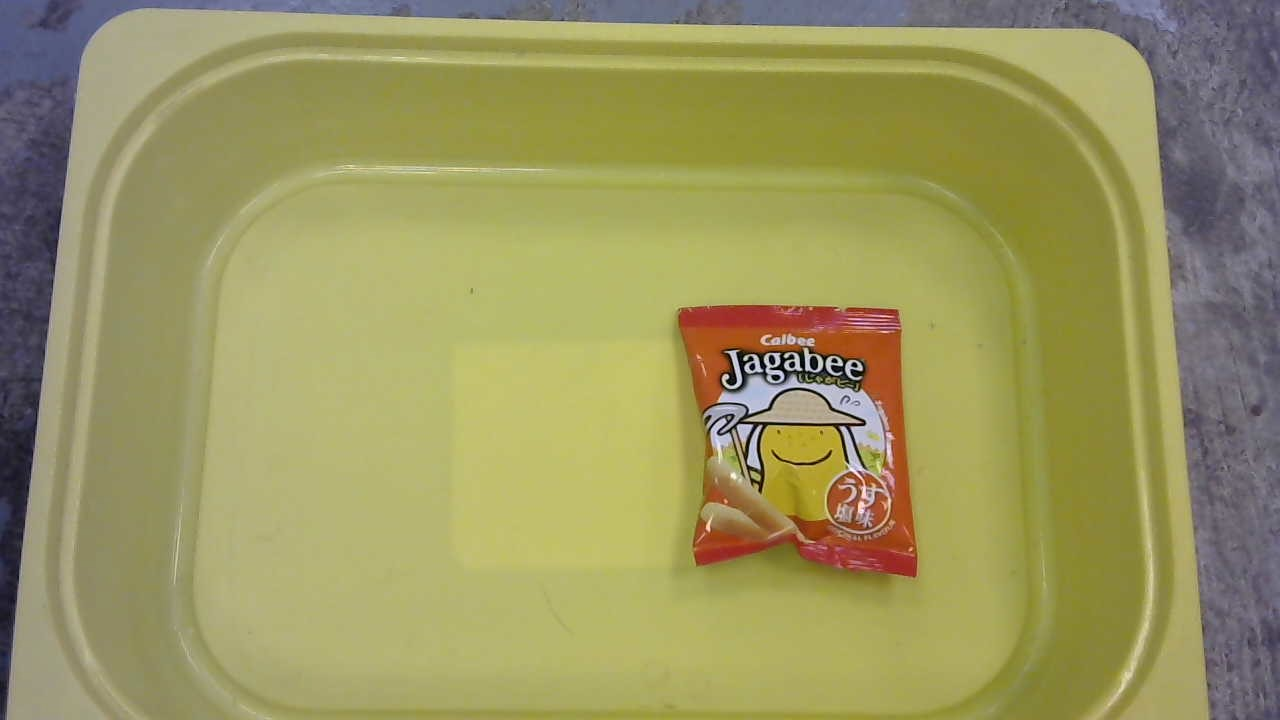JagabeeFarmer: (674, 295, 932, 590)
